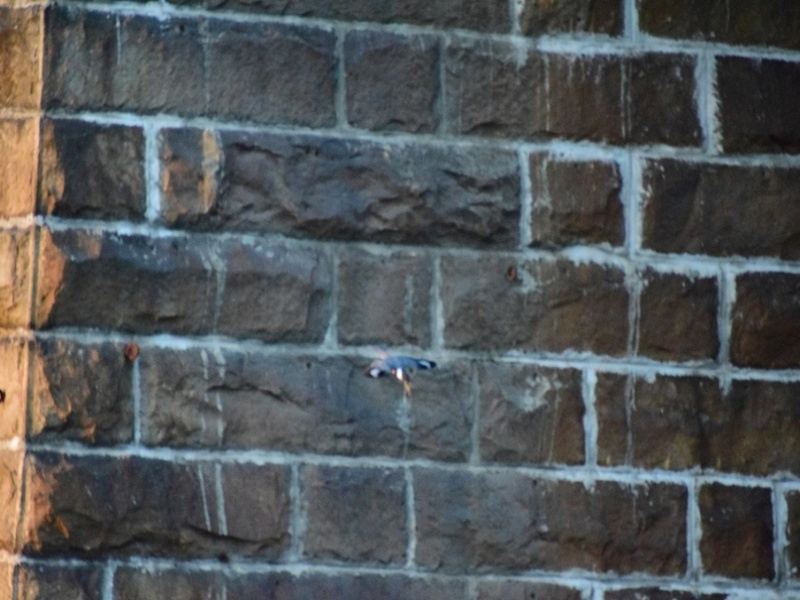kingfisher: (363, 337, 439, 401)
